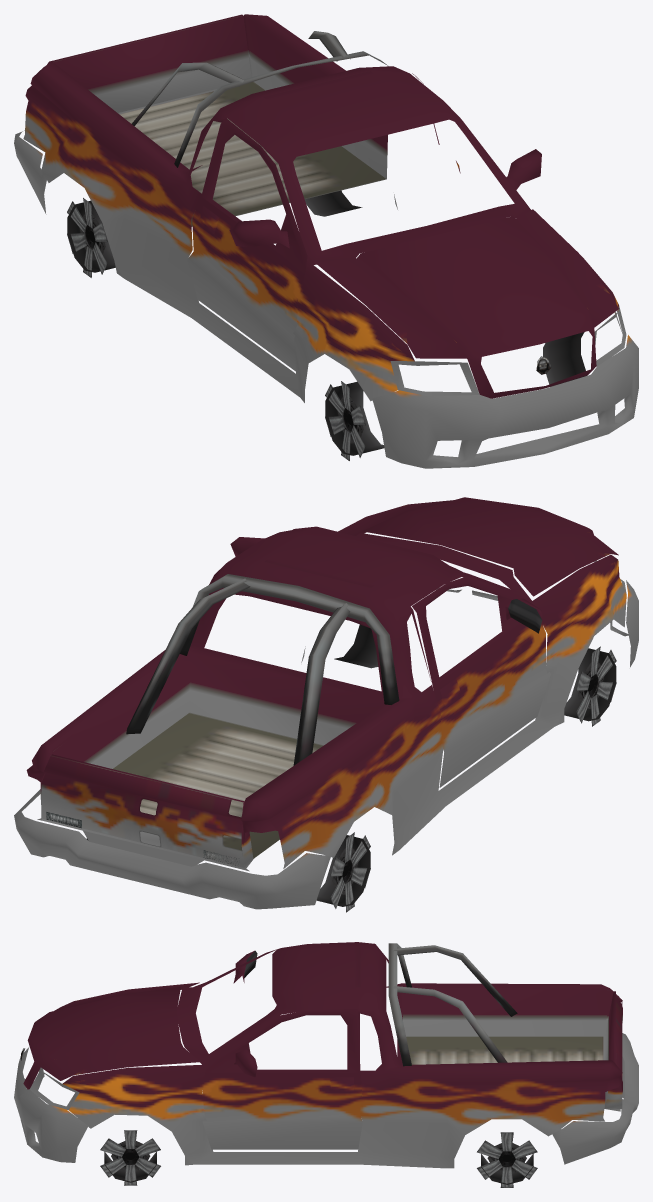
Rendered from car-CUPE_Car12.glb.
3 views of the same model, one above another, from view 1: azimuth 30°, elevation 25°; view 2: azimuth 150°, elevation 25°; view 3: azimuth 270°, elevation 25° (orthographic). The views are drawn at different scales.
Visible parts, largest first — view 1: CUPE_Car12; view 2: CUPE_Car12; view 3: CUPE_Car12.
Boxes of the visible parts, box(x1,y1,x2,y2) form: CUPE_Car12: box(14, 14, 638, 468); CUPE_Car12: box(14, 497, 638, 912); CUPE_Car12: box(14, 942, 638, 1187).
Size of the model in its own units: 2.25 by 1.61 by 5.22.
Materials: 11 (11 with a texture image).
